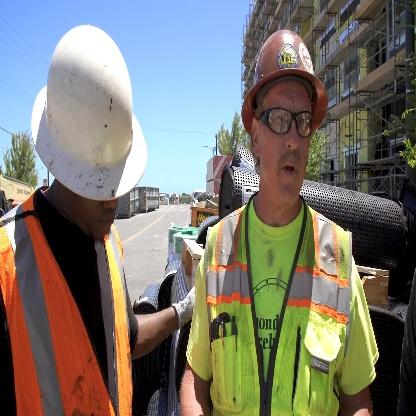helmet: (31, 16, 146, 245), (230, 15, 326, 230)
